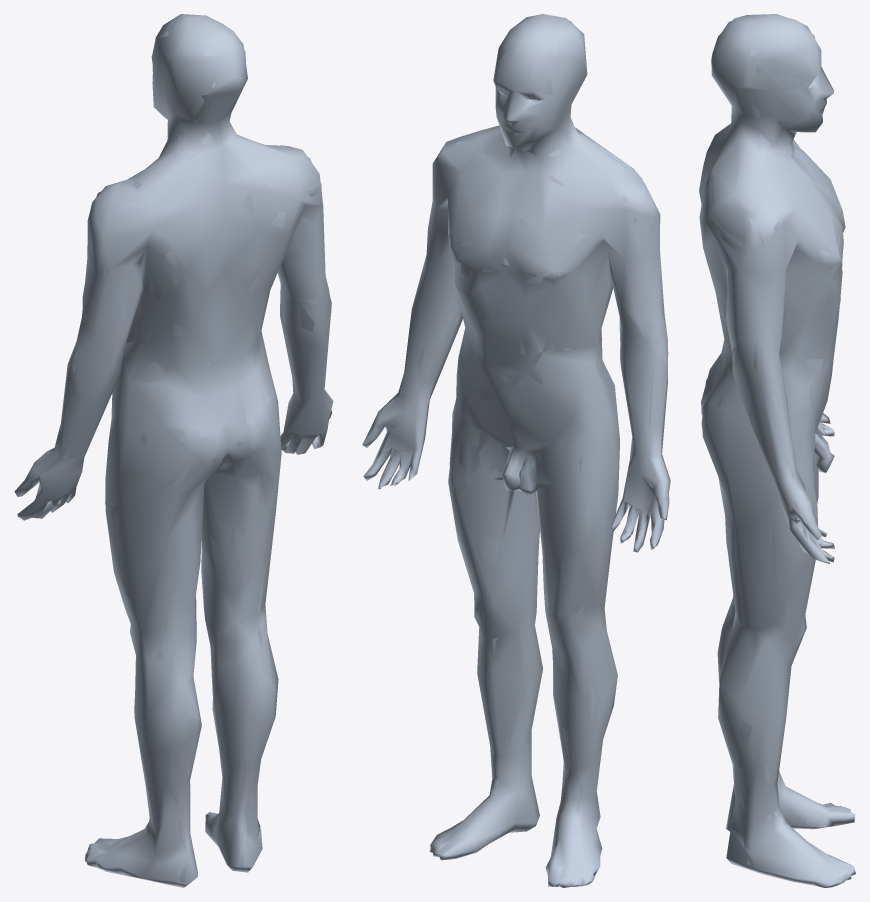
Rendered from context_lod2.glb.
The picture shows the model from 3 angles, left to right: view 1: azimuth 30°, elevation 25°; view 2: azimuth 150°, elevation 25°; view 3: azimuth 270°, elevation 25°; orthographic projection. The views are drawn at different scales.
Parts seen in each view (by area): view 1: FJ2810; view 2: FJ2810; view 3: FJ2810.
Part boxes in pixels (x1=…): FJ2810: x1=14, y1=14, x2=333, y2=887; FJ2810: x1=362, y1=14, x2=670, y2=887; FJ2810: x1=699, y1=14, x2=855, y2=887.
Bounding box in the file's own units: 66.58 × 172 × 29.34.
